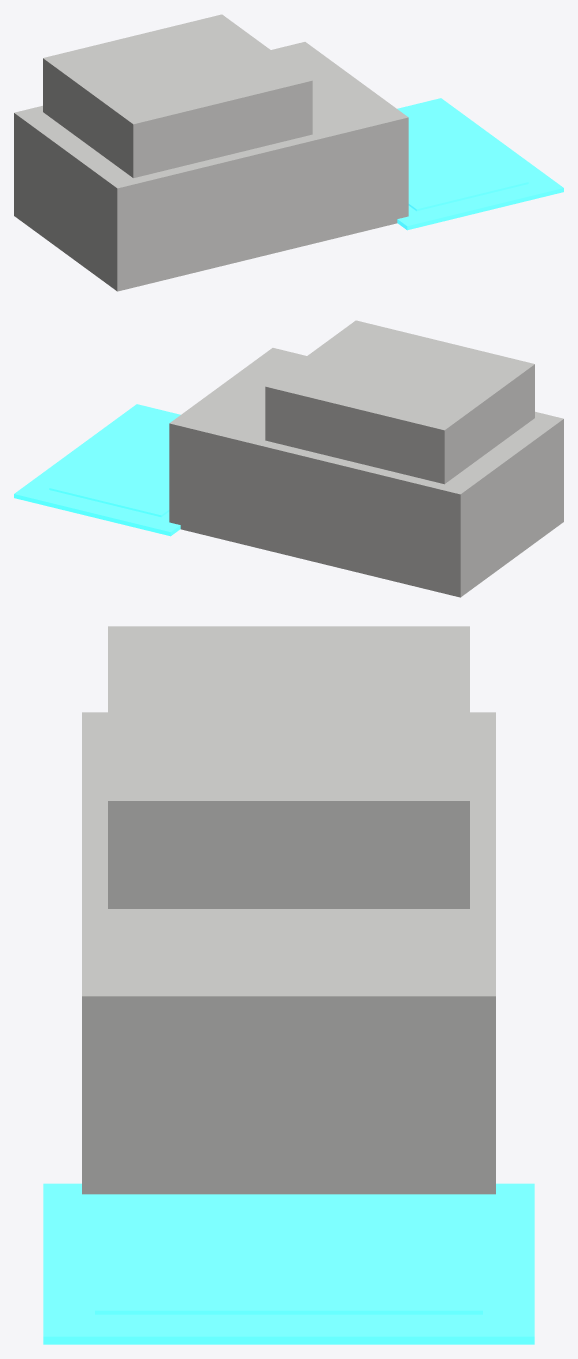
The model's file is bldg_mansion.glb.
The picture shows the model from 3 angles, top to bottom: view 1: azimuth 30°, elevation 25°; view 2: azimuth 150°, elevation 25°; view 3: azimuth 270°, elevation 25°; orthographic projection. The views are drawn at different scales.
Visible parts, largest first — view 1: bldg_mansion; view 2: bldg_mansion; view 3: bldg_mansion.
Part boxes in pixels (x1=…): bldg_mansion: x1=14, y1=14, x2=563, y2=291; bldg_mansion: x1=14, y1=320, x2=563, y2=597; bldg_mansion: x1=43, y1=626, x2=534, y2=1344.
Size of the model in its own units: 39 by 13.4 by 19.
